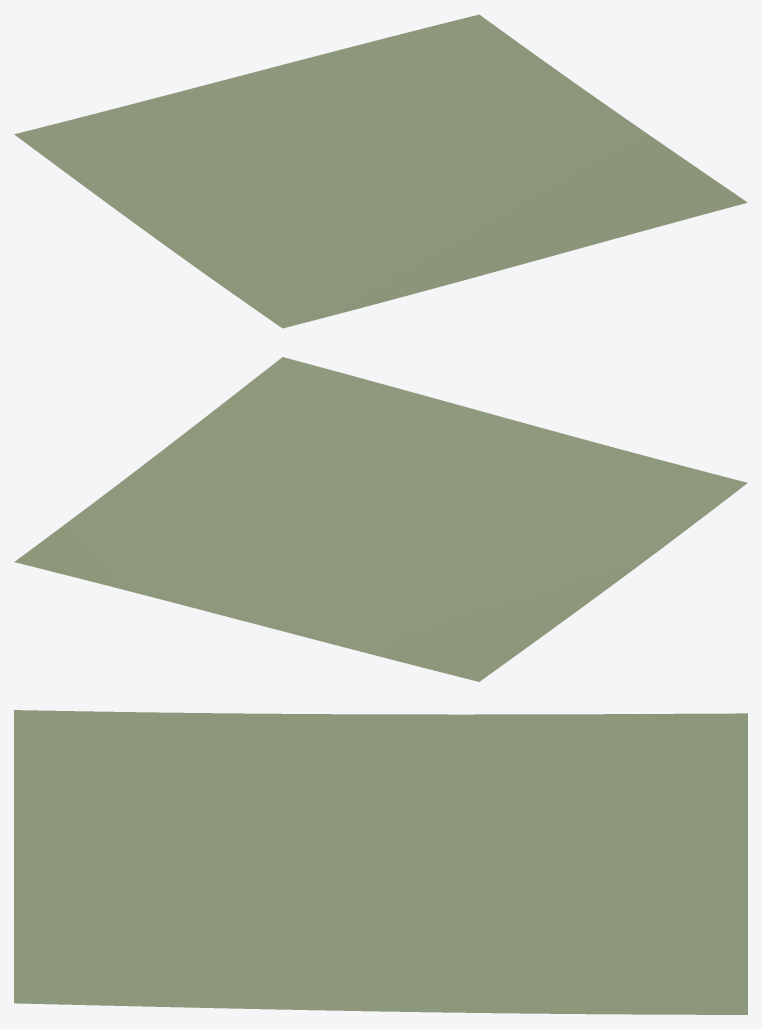
The model's file is expanse-7-17.glb.
3 renders of one model, top to bottom at view 1: azimuth 30°, elevation 25°; view 2: azimuth 150°, elevation 25°; view 3: azimuth 270°, elevation 25°, orthographic. The views are drawn at different scales.
Visible parts, largest first — view 1: expanse-7-17; view 2: expanse-7-17; view 3: expanse-7-17.
Boxes of the visible parts, bbox=[...] form: expanse-7-17: bbox=[14, 14, 747, 328]; expanse-7-17: bbox=[14, 357, 747, 681]; expanse-7-17: bbox=[14, 710, 747, 1014].
Size of the model in its own units: 256 by 8.19 by 256.
